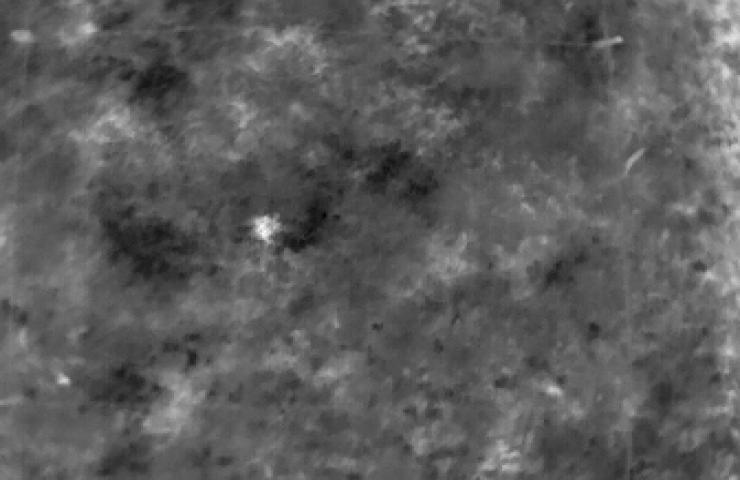landmines: (247, 211, 286, 247)
